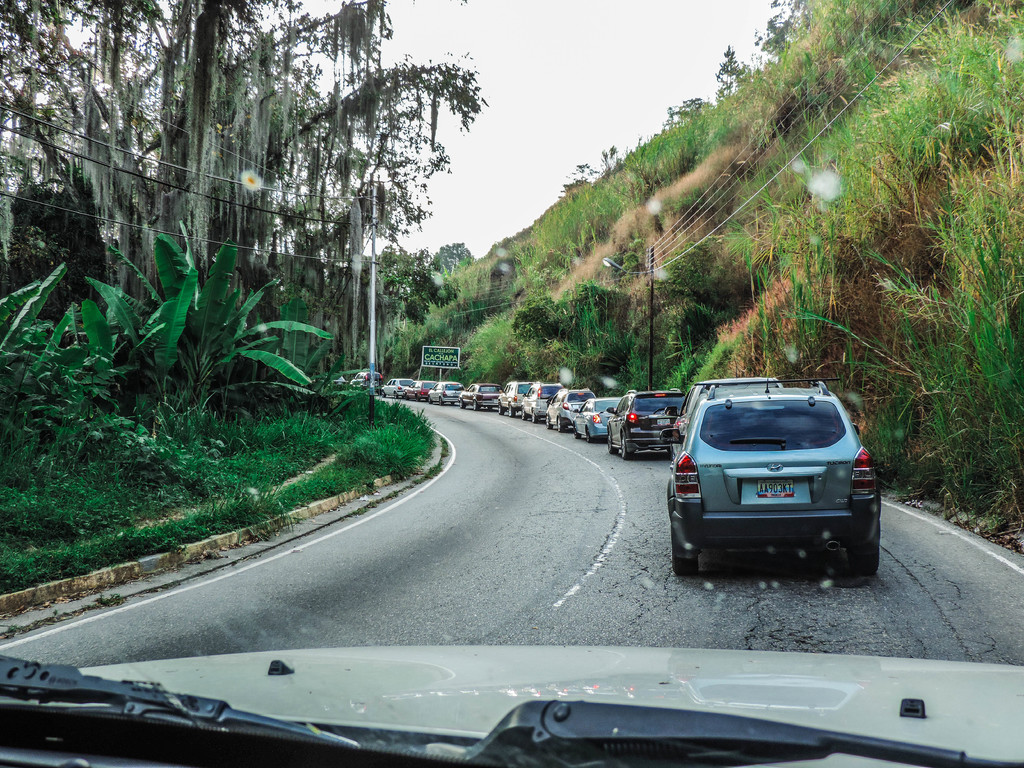Car: (570, 395, 626, 441), (428, 379, 465, 404), (404, 379, 428, 399)
